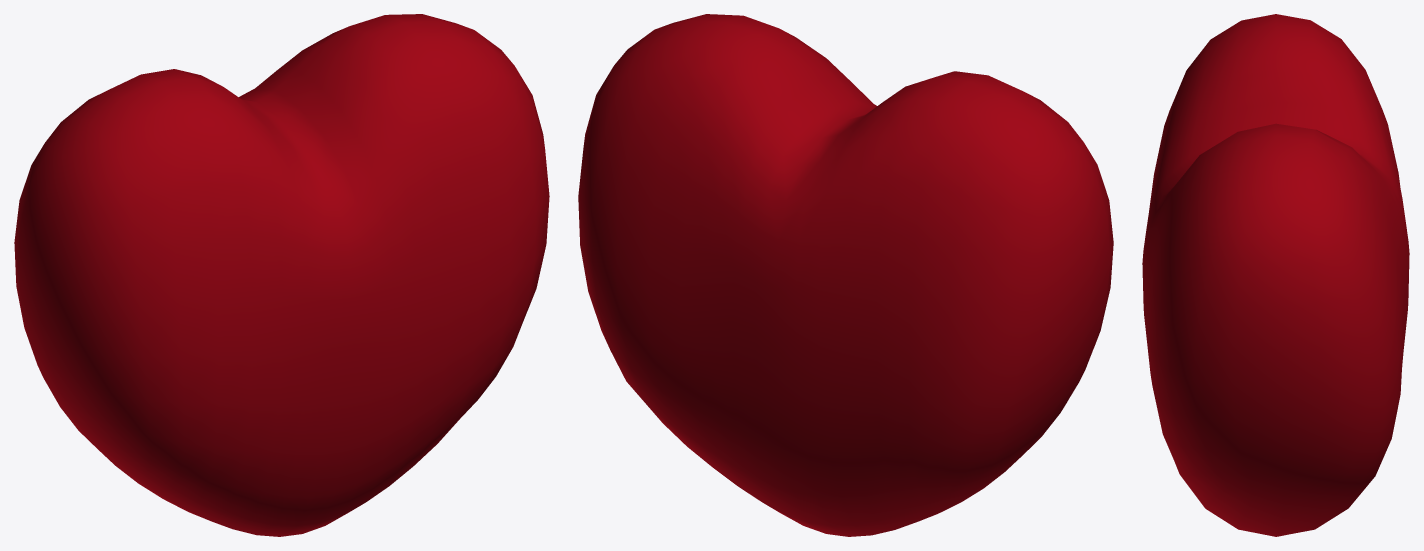
File: heart.fbx
3 views of the same model, side by side, from view 1: azimuth 30°, elevation 25°; view 2: azimuth 150°, elevation 25°; view 3: azimuth 270°, elevation 25° (orthographic). The views are drawn at different scales.
Visible parts, largest first — view 1: Cube; view 2: Cube; view 3: Cube.
Part boxes in pixels (bbox=[...]): Cube: bbox=[14, 14, 549, 536]; Cube: bbox=[578, 14, 1113, 536]; Cube: bbox=[1142, 14, 1409, 536].
Bounding box in the file's own units: 371 × 343 × 186.
